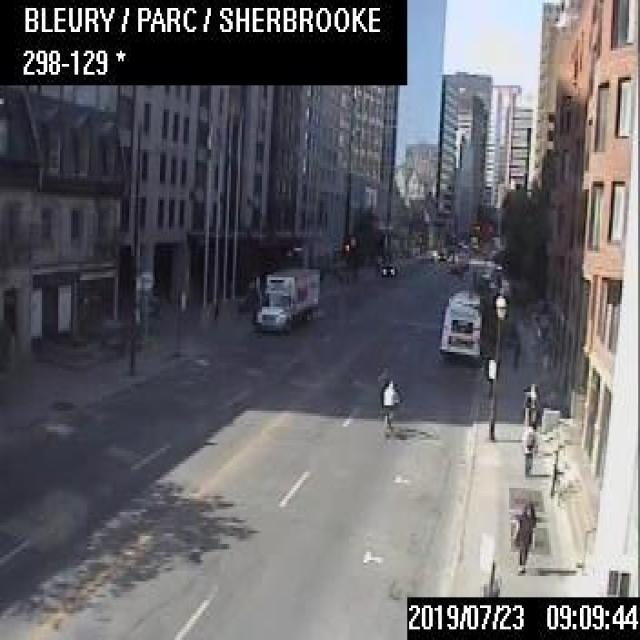bus: (436, 291, 480, 357)
cyclist: (378, 376, 398, 434)
pedestrian: (512, 497, 534, 573), (519, 423, 536, 477), (522, 380, 536, 426)
vehicle: (253, 261, 320, 331), (378, 260, 396, 276)
